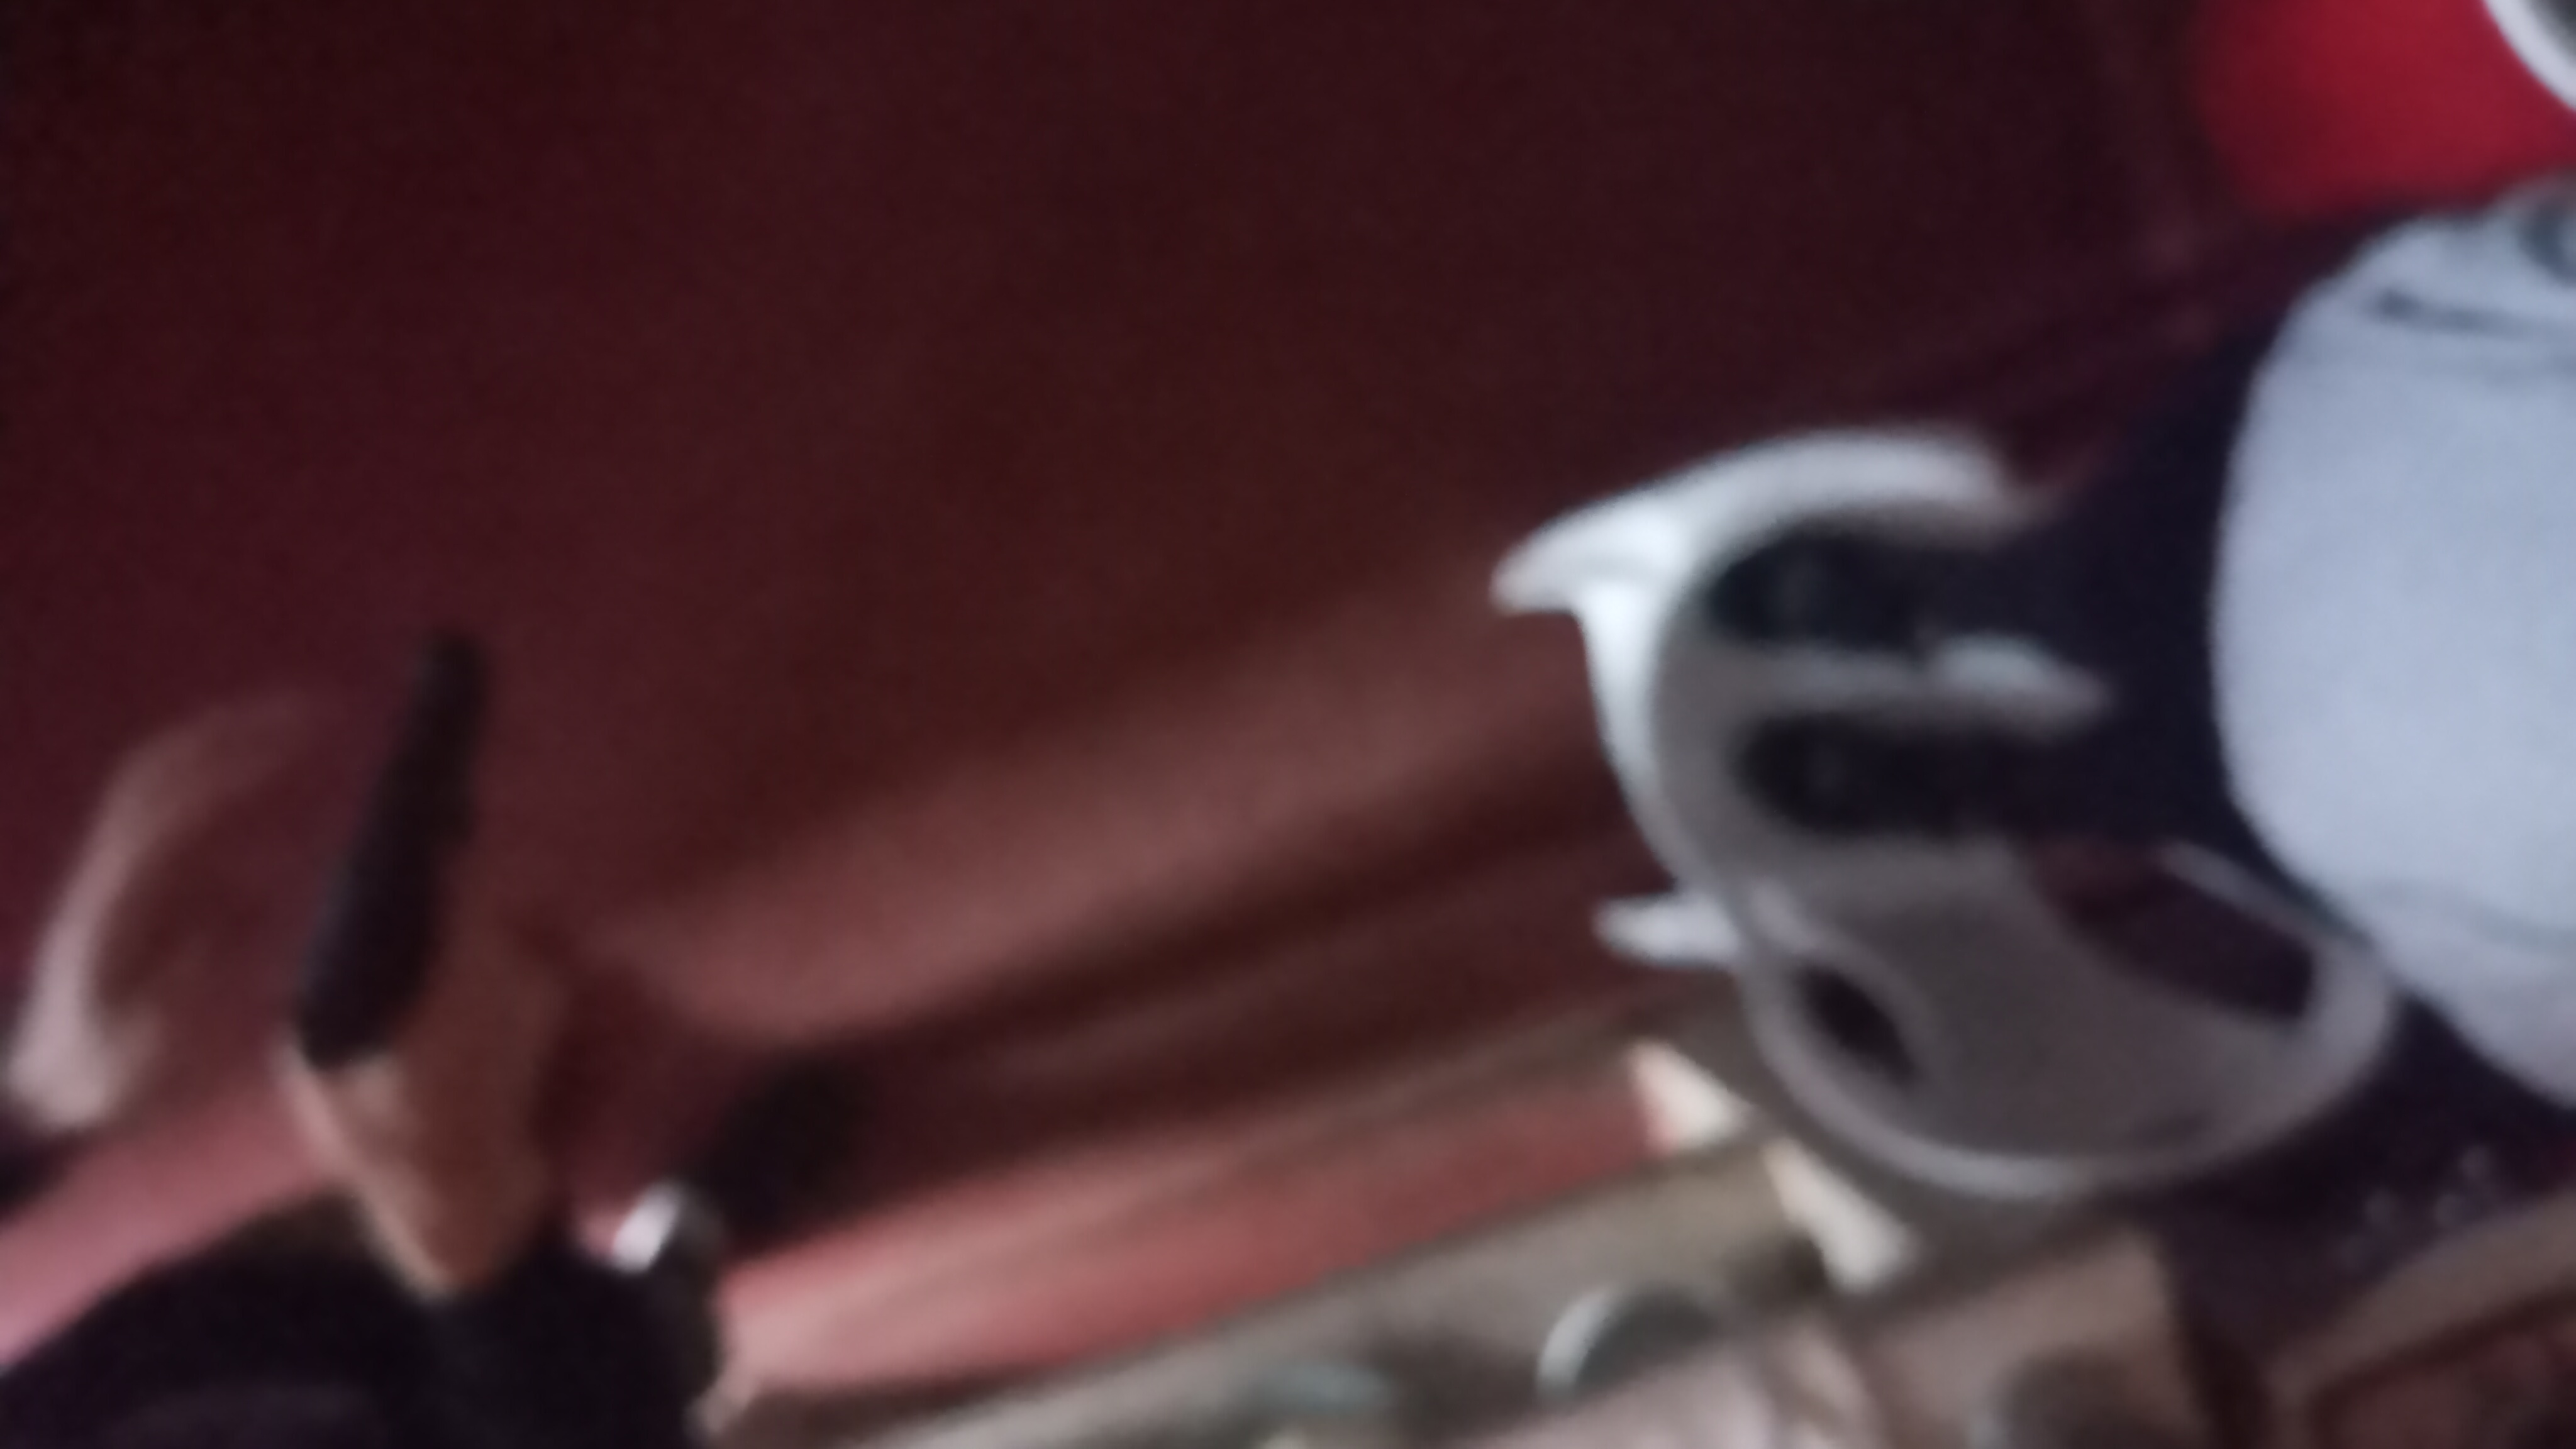Arma: (304, 639, 510, 1058)
